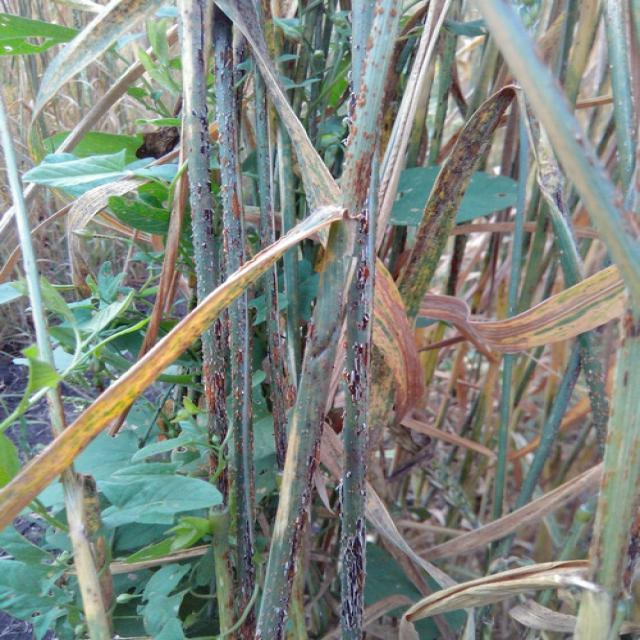Stem Rust: (0, 0, 405, 639), (376, 68, 623, 349)
